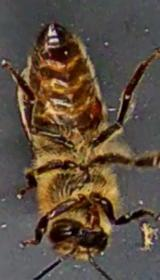varroa_mite: (76, 85, 111, 123)
